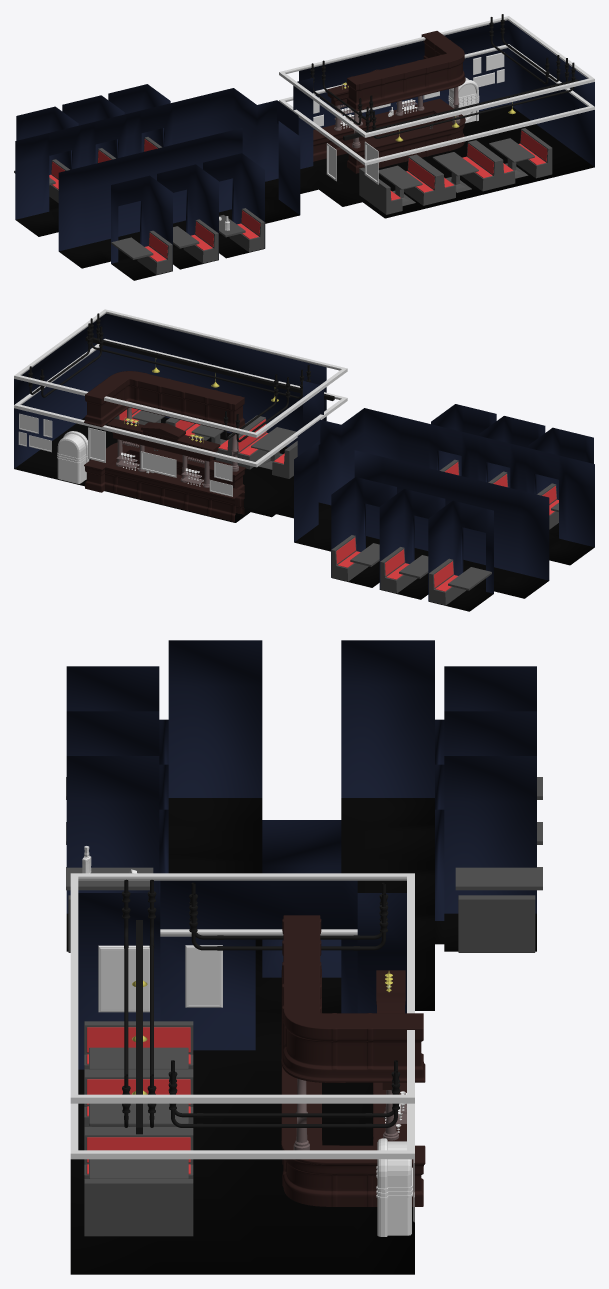
The model's file is bar.fbx.
3 views of the same model, one above another, from view 1: azimuth 30°, elevation 25°; view 2: azimuth 150°, elevation 25°; view 3: azimuth 270°, elevation 25° (orthographic). The views are drawn at different scales.
Parts seen in each view (by area): view 1: Plane, Cube.034, Cube.004, Cube.035, Cube.002, Cube.001, Cube.003, Cube.030, Cube.041, Cube.037, Cube.036, Cylinder.001 (+8 smaller); view 2: Plane, Cube.004, Cube.034, Cube.035, Cylinder.001, Cube.030, Cube.001, Cube.046, Cube.043, Cube.045, Cube.005, Cube.003 (+9 smaller); view 3: Plane, Cube.034, Cube.035, Cube.002, Cube.004, Cube.043, Cube.003, Cube.030, Cube.001, Cube.005, Cube.040, Cylinder.010 (+6 smaller).
Part boxes in pixels (<box>): Plane: <box>15,20,594,280</box>; Cube.034: <box>346,31,465,111</box>; Cube.004: <box>313,98,465,173</box>; Cube.035: <box>279,16,594,137</box>; Cube.002: <box>461,128,552,191</box>; Cube.001: <box>359,154,455,214</box>; Cube.003: <box>378,138,534,205</box>; Cube.030: <box>279,44,594,165</box>; Cube.041: <box>111,230,172,274</box>; Cube.037: <box>173,219,218,263</box>; Cube.036: <box>219,208,265,252</box>; Cylinder.001: <box>325,69,460,148</box>; Plane: <box>14,313,594,611</box>; Cube.004: <box>84,441,245,522</box>; Cube.034: <box>84,371,245,432</box>; Cube.035: <box>14,309,347,437</box>; Cylinder.001: <box>106,407,238,487</box>; Cube.030: <box>14,338,347,467</box>; Cube.001: <box>215,415,297,478</box>; Cube.046: <box>429,558,491,605</box>; Cube.043: <box>331,535,379,581</box>; Cube.045: <box>380,547,428,593</box>; Cube.005: <box>57,431,89,483</box>; Cube.003: <box>132,410,296,469</box>; Plane: <box>66,640,536,1274</box>; Cube.034: <box>281,915,425,1082</box>; Cube.035: <box>70,873,414,1103</box>; Cube.002: <box>84,1127,193,1236</box>; Cube.004: <box>281,1065,425,1206</box>; Cube.043: <box>455,867,542,952</box>; Cube.003: <box>89,1047,188,1178</box>; Cube.030: <box>70,929,414,1159</box>; Cube.001: <box>84,1021,193,1126</box>; Cube.005: <box>376,1138,412,1236</box>; Cube.040: <box>98,945,149,1012</box>; Cylinder.010: <box>168,1060,400,1128</box>.
Size of the model in its own units: 1755 by 328 by 738.
